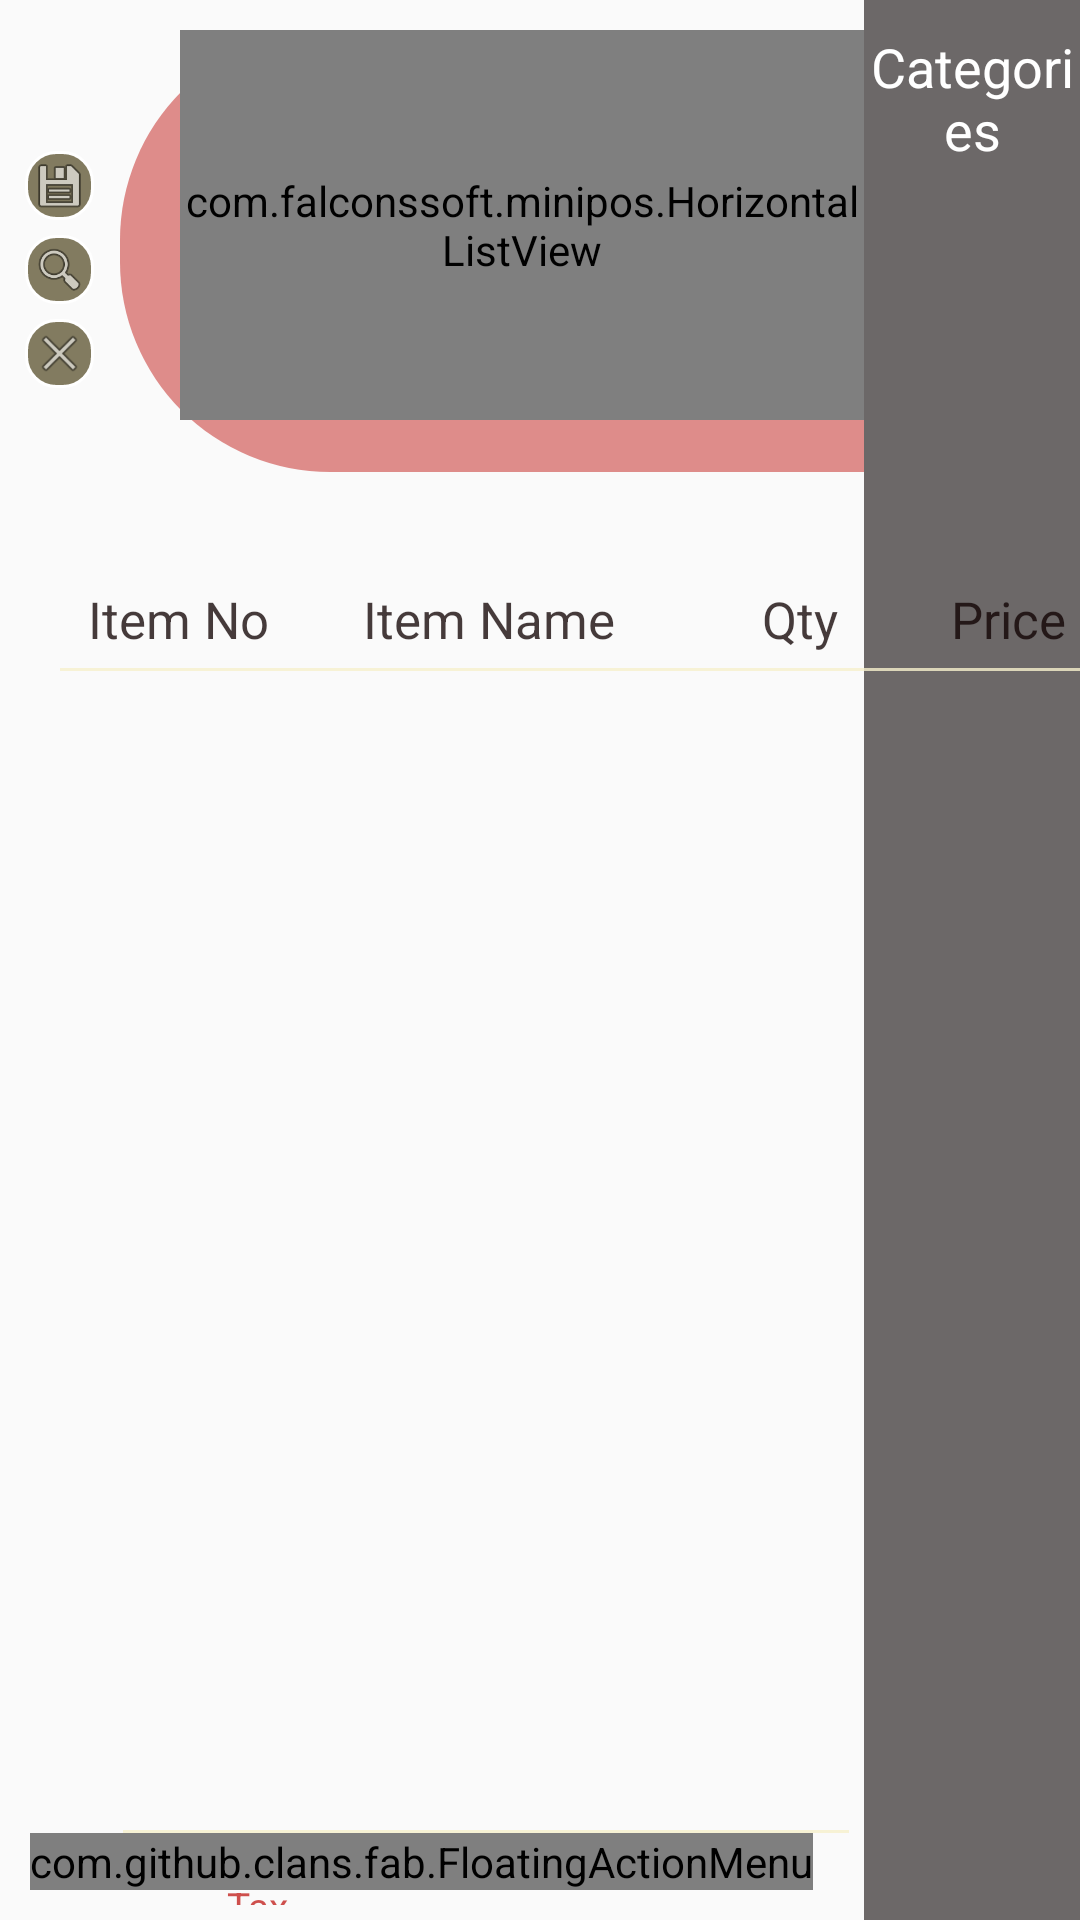

Locate icon controls on the screen. Image size 1080 x 1920, boxes as (left=x1, top=y1, right=x2, bottom=y2).
close clear cancel: (left=28, top=322, right=91, bottom=385)
save: (left=28, top=154, right=91, bottom=217)
search: (left=28, top=238, right=91, bottom=301)
